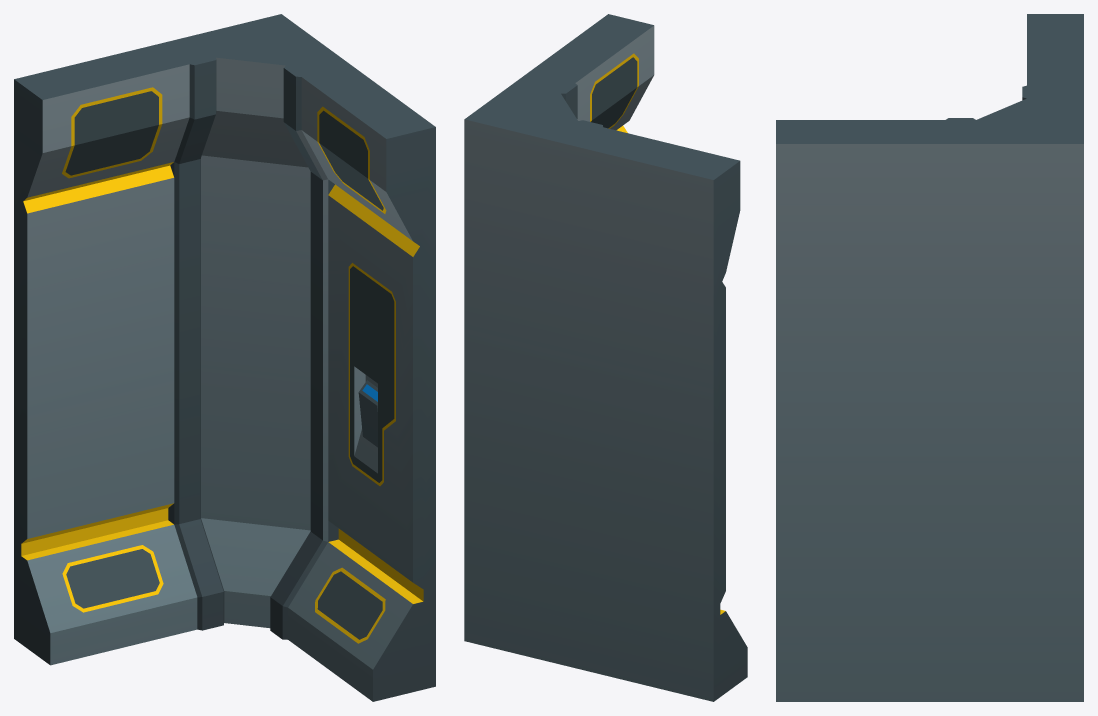
The model's file is Wall_type_C_003.fbx.
3 views of the same model, side by side, from view 1: azimuth 30°, elevation 25°; view 2: azimuth 150°, elevation 25°; view 3: azimuth 270°, elevation 25° (orthographic). The views are drawn at different scales.
Visible parts, largest first — view 1: Wall_type_C_003; view 2: Wall_type_C_003; view 3: Wall_type_C_003.
Boxes of the visible parts, x1=… form: Wall_type_C_003: x1=14, y1=14, x2=435, y2=701; Wall_type_C_003: x1=464, y1=14, x2=747, y2=701; Wall_type_C_003: x1=776, y1=14, x2=1083, y2=701.
Size of the model in its own units: 200 by 200 by 400.
